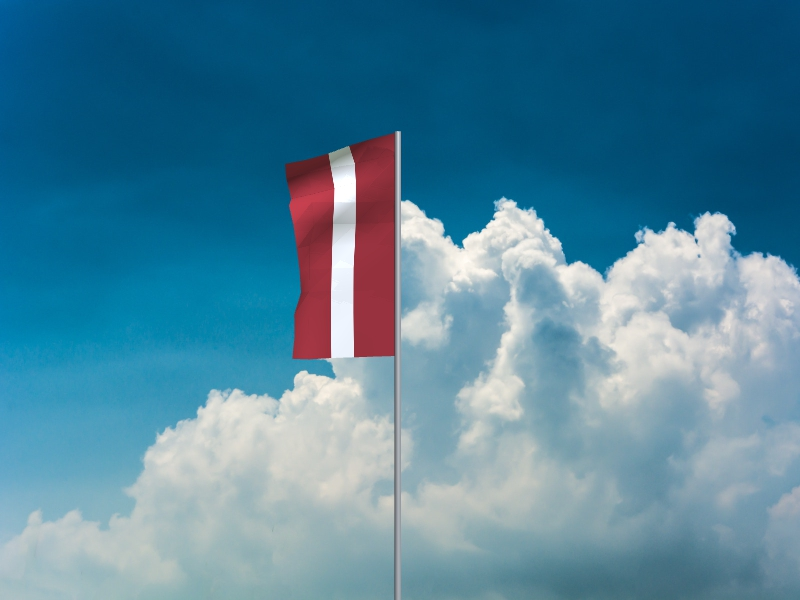lv: (285, 134, 395, 361)
